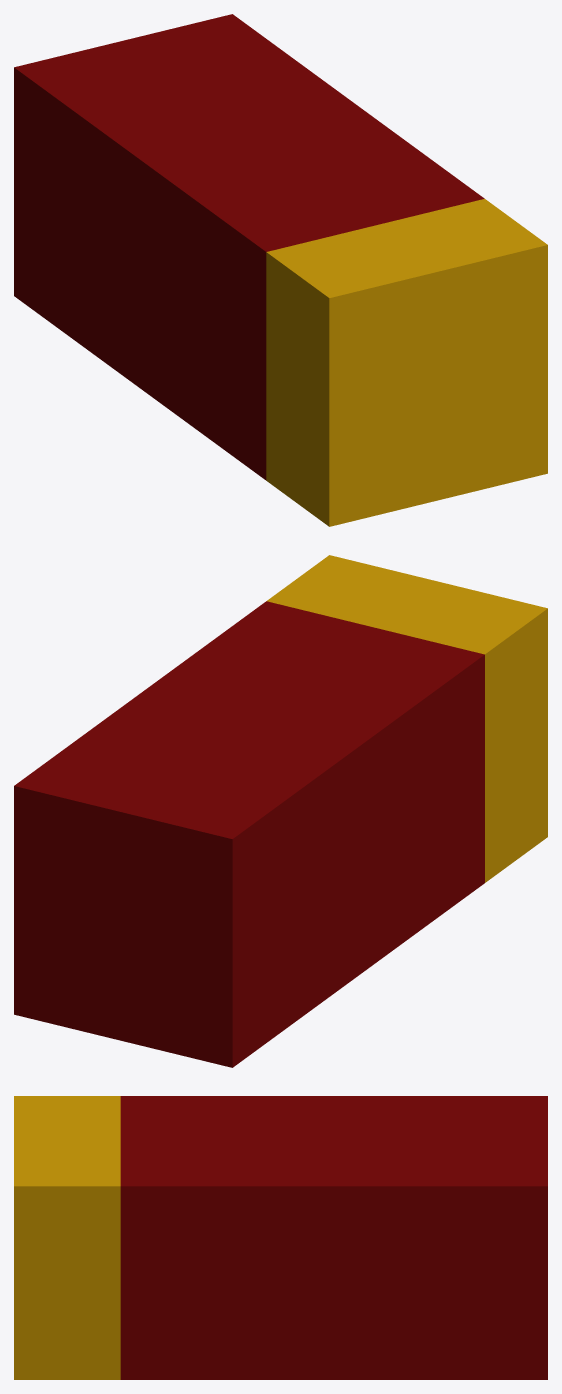
The model's file is ShotGunShell.obj.
3 views of the same model, one above another, from view 1: azimuth 30°, elevation 25°; view 2: azimuth 150°, elevation 25°; view 3: azimuth 270°, elevation 25° (orthographic). The views are drawn at different scales.
Bounding box in the file's own units: 0.2 × 0.2 × 0.5.
1 material, 1 textured.
